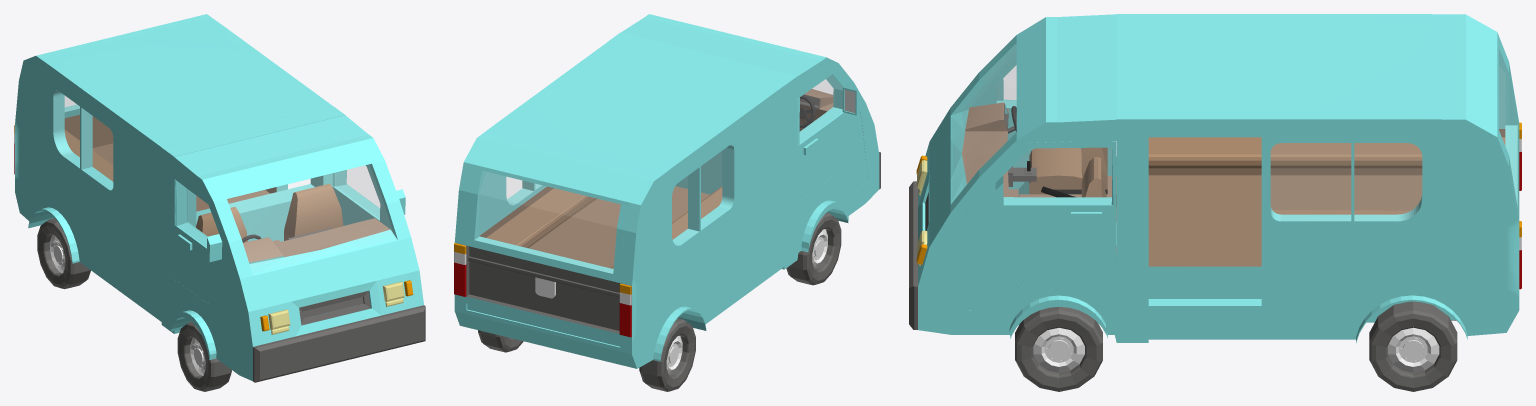
Rendered from carry car well Aselik.fbx.
The picture shows the model from 3 angles, left to right: view 1: azimuth 30°, elevation 25°; view 2: azimuth 150°, elevation 25°; view 3: azimuth 270°, elevation 25°; orthographic projection. The views are drawn at different scales.
Visible parts, largest first — view 1: Body Angkot, Kerangka v2, Kaca Depan, Pintu Kanan, Kaca samping.001, Interior Seat.001, Ban Belakang Kanan, Ban Depan kanan, Rem Tangan, Kaca Pintu kiri.001, Kaca Pintu kiri.002, Interior Seat (+1 smaller); view 2: Body Angkot, Kerangka v2, kaca belakang, Pintu Kanan, Duduk Belakang pendek, Ban Belakang Kanan, Ban Depan kanan, Kaca samping.001, Kaca Pintu kiri.001, Gagang Kaca Belakang Kiri, Duduk Belakang, Gagang Kaca Belakang Kanan (+2 smaller); view 3: Body Angkot, Kerangka v2, Rem Tangan, Kaca samping, Duduk Belakang, Ban belakang Kiri, Ban Depan Kiri, Kaca Pintu kiri.002, Kaca Depan, Interior Seat, Pintu Kanan, kaca belakang (+3 smaller).
Boxes of the visible parts, x1=… form: Body Angkot: x1=15, y1=14, x2=332, y2=321; Kerangka v2: x1=161, y1=106, x2=425, y2=382; Kaca Depan: x1=227, y1=165, x2=392, y2=267; Pintu Kanan: x1=174, y1=174, x2=241, y2=357; Kaca samping.001: x1=54, y1=91, x2=112, y2=180; Interior Seat.001: x1=284, y1=183, x2=343, y2=240; Ban Belakang Kanan: x1=37, y1=218, x2=90, y2=289; Ban Depan kanan: x1=177, y1=321, x2=231, y2=391; Rem Tangan: x1=332, y1=165, x2=405, y2=229; Kaca Pintu kiri.001: x1=187, y1=189, x2=218, y2=236; Kaca Pintu kiri.002: x1=347, y1=166, x2=379, y2=207; Interior Seat: x1=196, y1=207, x2=247, y2=242; Body Angkot: x1=454, y1=42, x2=784, y2=368; Kerangka v2: x1=607, y1=14, x2=880, y2=269; kaca belakang: x1=475, y1=172, x2=620, y2=273; Pintu Kanan: x1=797, y1=69, x2=867, y2=202; Duduk Belakang pendek: x1=486, y1=188, x2=596, y2=248; Ban Belakang Kanan: x1=639, y1=318, x2=695, y2=391; Ban Depan kanan: x1=786, y1=212, x2=841, y2=285; Kaca samping.001: x1=672, y1=152, x2=721, y2=245; Kaca Pintu kiri.001: x1=800, y1=75, x2=841, y2=132; Gagang Kaca Belakang Kiri: x1=467, y1=168, x2=485, y2=239; Duduk Belakang: x1=610, y1=186, x2=722, y2=268; Gagang Kaca Belakang Kanan: x1=613, y1=204, x2=628, y2=275; Body Angkot: x1=1148, y1=14, x2=1519, y2=343; Kerangka v2: x1=909, y1=14, x2=1148, y2=342; Rem Tangan: x1=945, y1=141, x2=1116, y2=310; Kaca samping: x1=1271, y1=143, x2=1421, y2=220; Duduk Belakang: x1=1148, y1=137, x2=1505, y2=168; Ban belakang Kiri: x1=1369, y1=301, x2=1457, y2=391; Ban Depan Kiri: x1=1015, y1=306, x2=1102, y2=391; Kaca Pintu kiri.002: x1=1004, y1=148, x2=1111, y2=198; Kaca Depan: x1=962, y1=46, x2=1015, y2=188; Interior Seat: x1=1029, y1=147, x2=1107, y2=194; Pintu Kanan: x1=971, y1=58, x2=1116, y2=189; kaca belakang: x1=1499, y1=66, x2=1517, y2=203.
Bounding box in the file's own units: 176 × 186 × 378.
